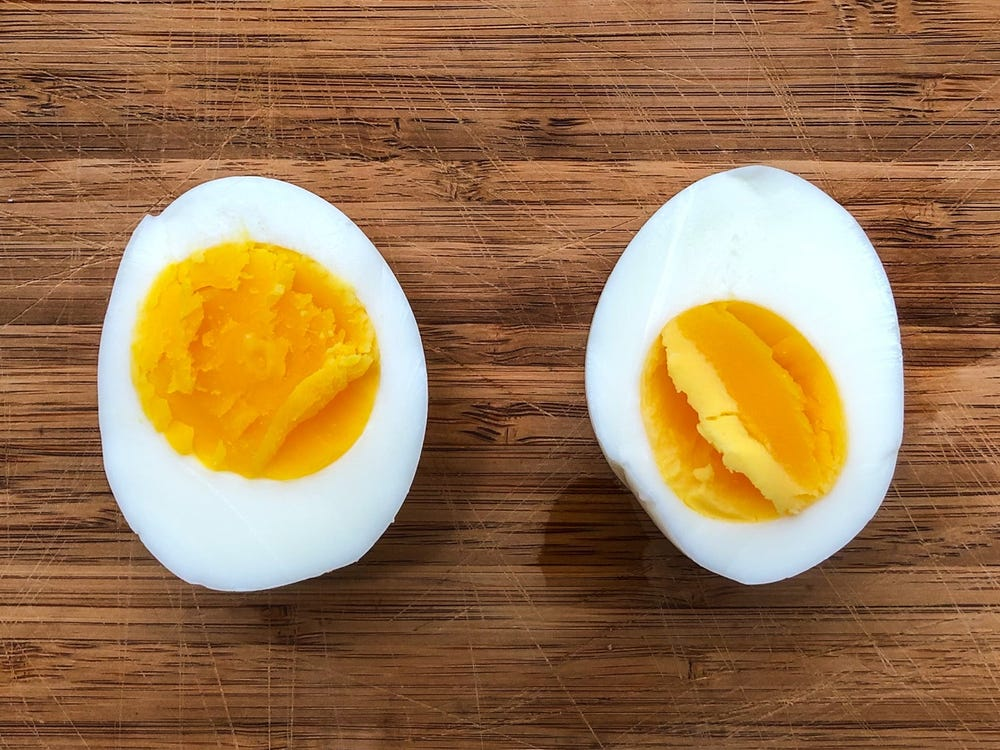Telur: (514, 130, 931, 689), (96, 208, 444, 650)
